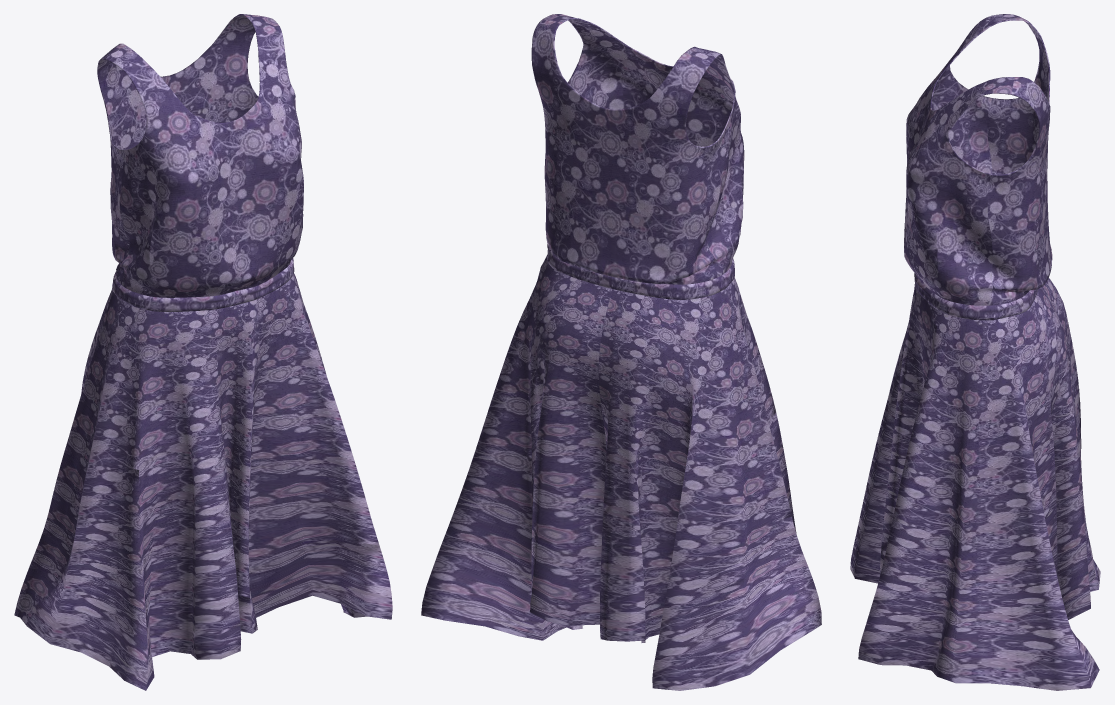
Rendered from toigo-camisole-dress-with-full-skirt.glb.
The picture shows the model from 3 angles, left to right: view 1: azimuth 30°, elevation 25°; view 2: azimuth 150°, elevation 25°; view 3: azimuth 270°, elevation 25°; orthographic projection. The views are drawn at different scales.
Parts seen in each view (by area): view 1: camisole dress with full skirt; view 2: camisole dress with full skirt; view 3: camisole dress with full skirt.
Boxes of the visible parts, x1,y1,x2,y2 form: camisole dress with full skirt: [14, 14, 392, 690]; camisole dress with full skirt: [421, 14, 821, 690]; camisole dress with full skirt: [850, 14, 1100, 690].
Bounding box in the file's own units: 61.75 × 103 × 40.47.
Materials: 1 (1 with a texture image).
